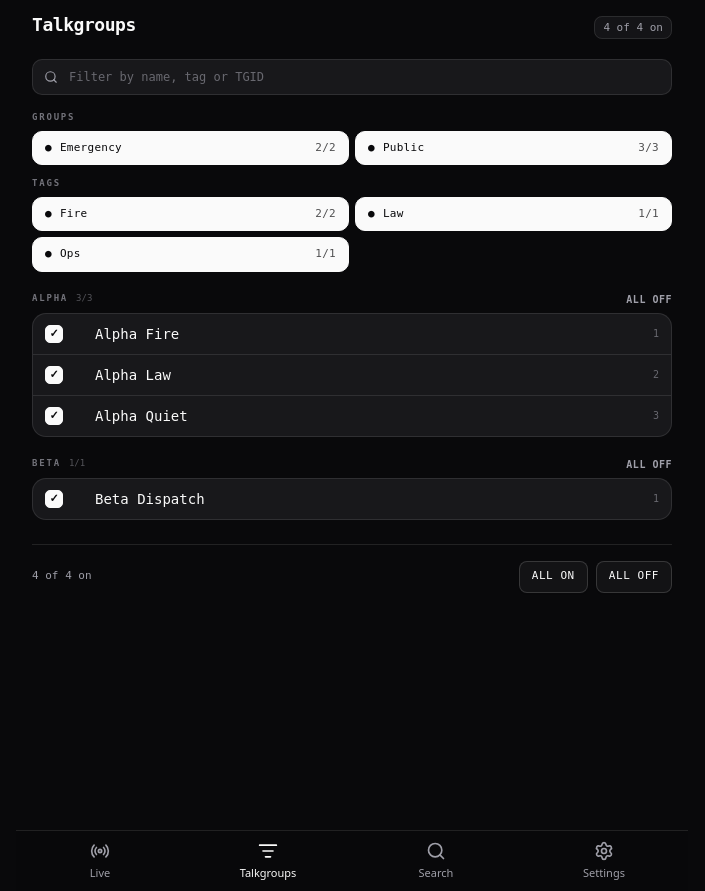
Test case: TalkgroupsScreen (#12, spec US 19–22) › turns one Talkgroup off (spec US 19)
The width and height of the screenshot is (705, 891).
Step 1. Click the switch labelled "✓ Alpha Fire 1" → click(137, 334), box [33,314,671,354]
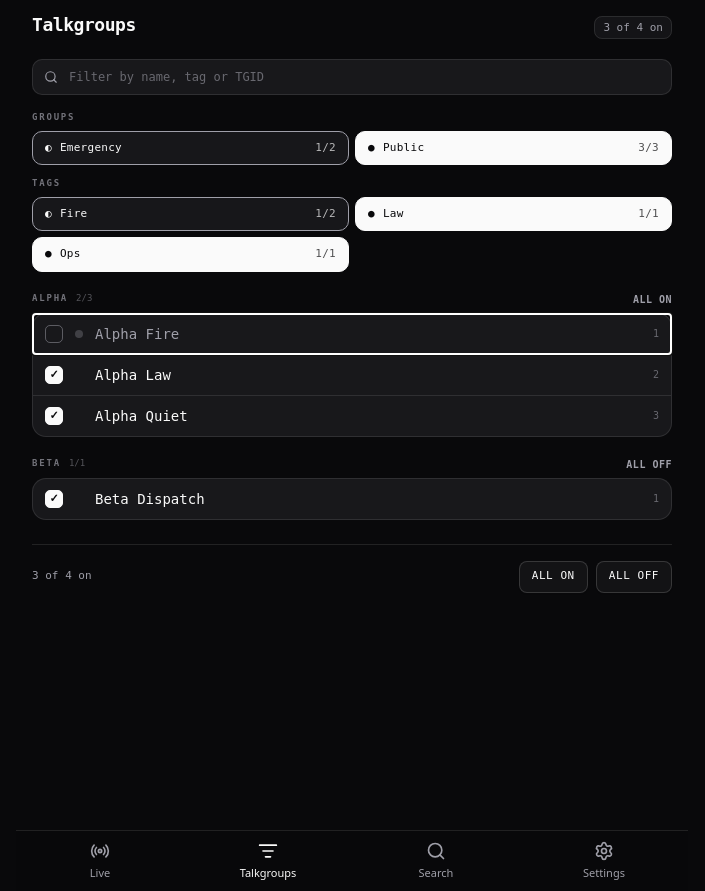
Check: the text with test id "selection-summary" reads "3 of 4 on", box [594,16,672,39]
